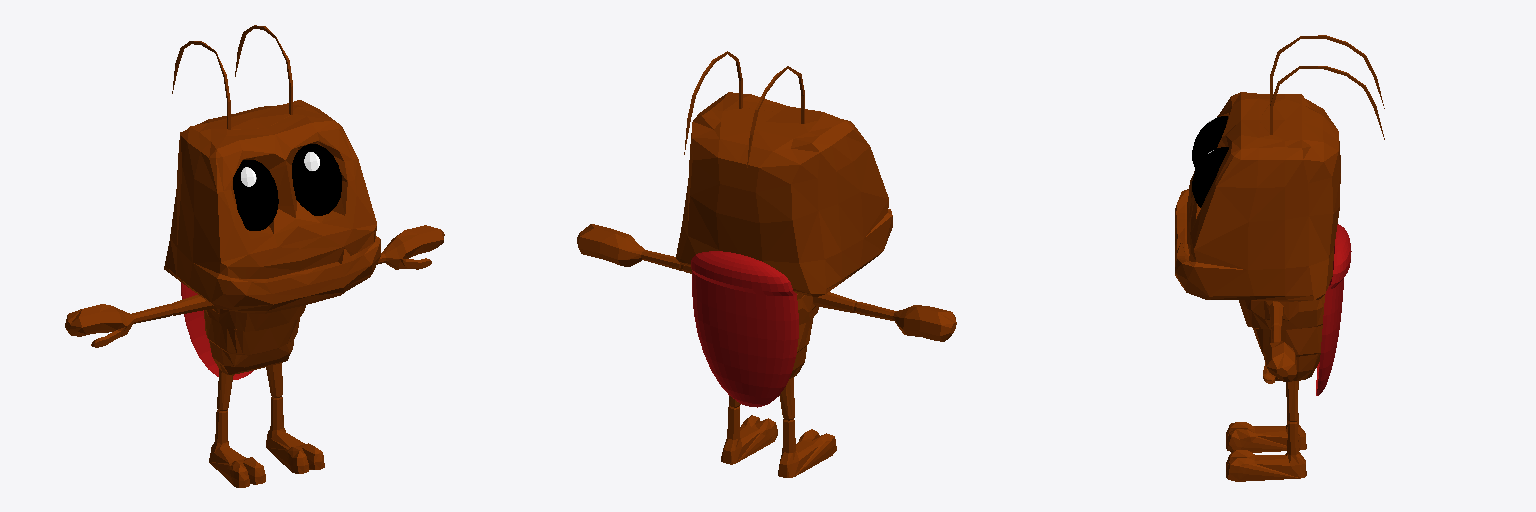
The picture shows the model from 3 angles: view 1: azimuth 30°, elevation 25°; view 2: azimuth 150°, elevation 25°; view 3: azimuth 270°, elevation 25°; orthographic projection.
Visible parts, largest first — view 1: character_mesh, eyeR, eyeL, wings; view 2: character_mesh, wings; view 3: character_mesh, wings, eyeR, eyeL.
Boxes of the visible parts, <box> form: character_mesh: <box>65,25,444,487</box>; eyeR: <box>292,144,341,215</box>; eyeL: <box>233,160,278,230</box>; wings: <box>181,282,253,379</box>; character_mesh: <box>577,51,956,477</box>; wings: <box>691,251,798,407</box>; character_mesh: <box>1175,35,1384,481</box>; wings: <box>1316,224,1351,395</box>; eyeR: <box>1192,147,1228,207</box>; eyeL: <box>1192,116,1227,169</box>.
Size of the model in its own units: 426 by 447 by 208.
3 materials, 1 textured.